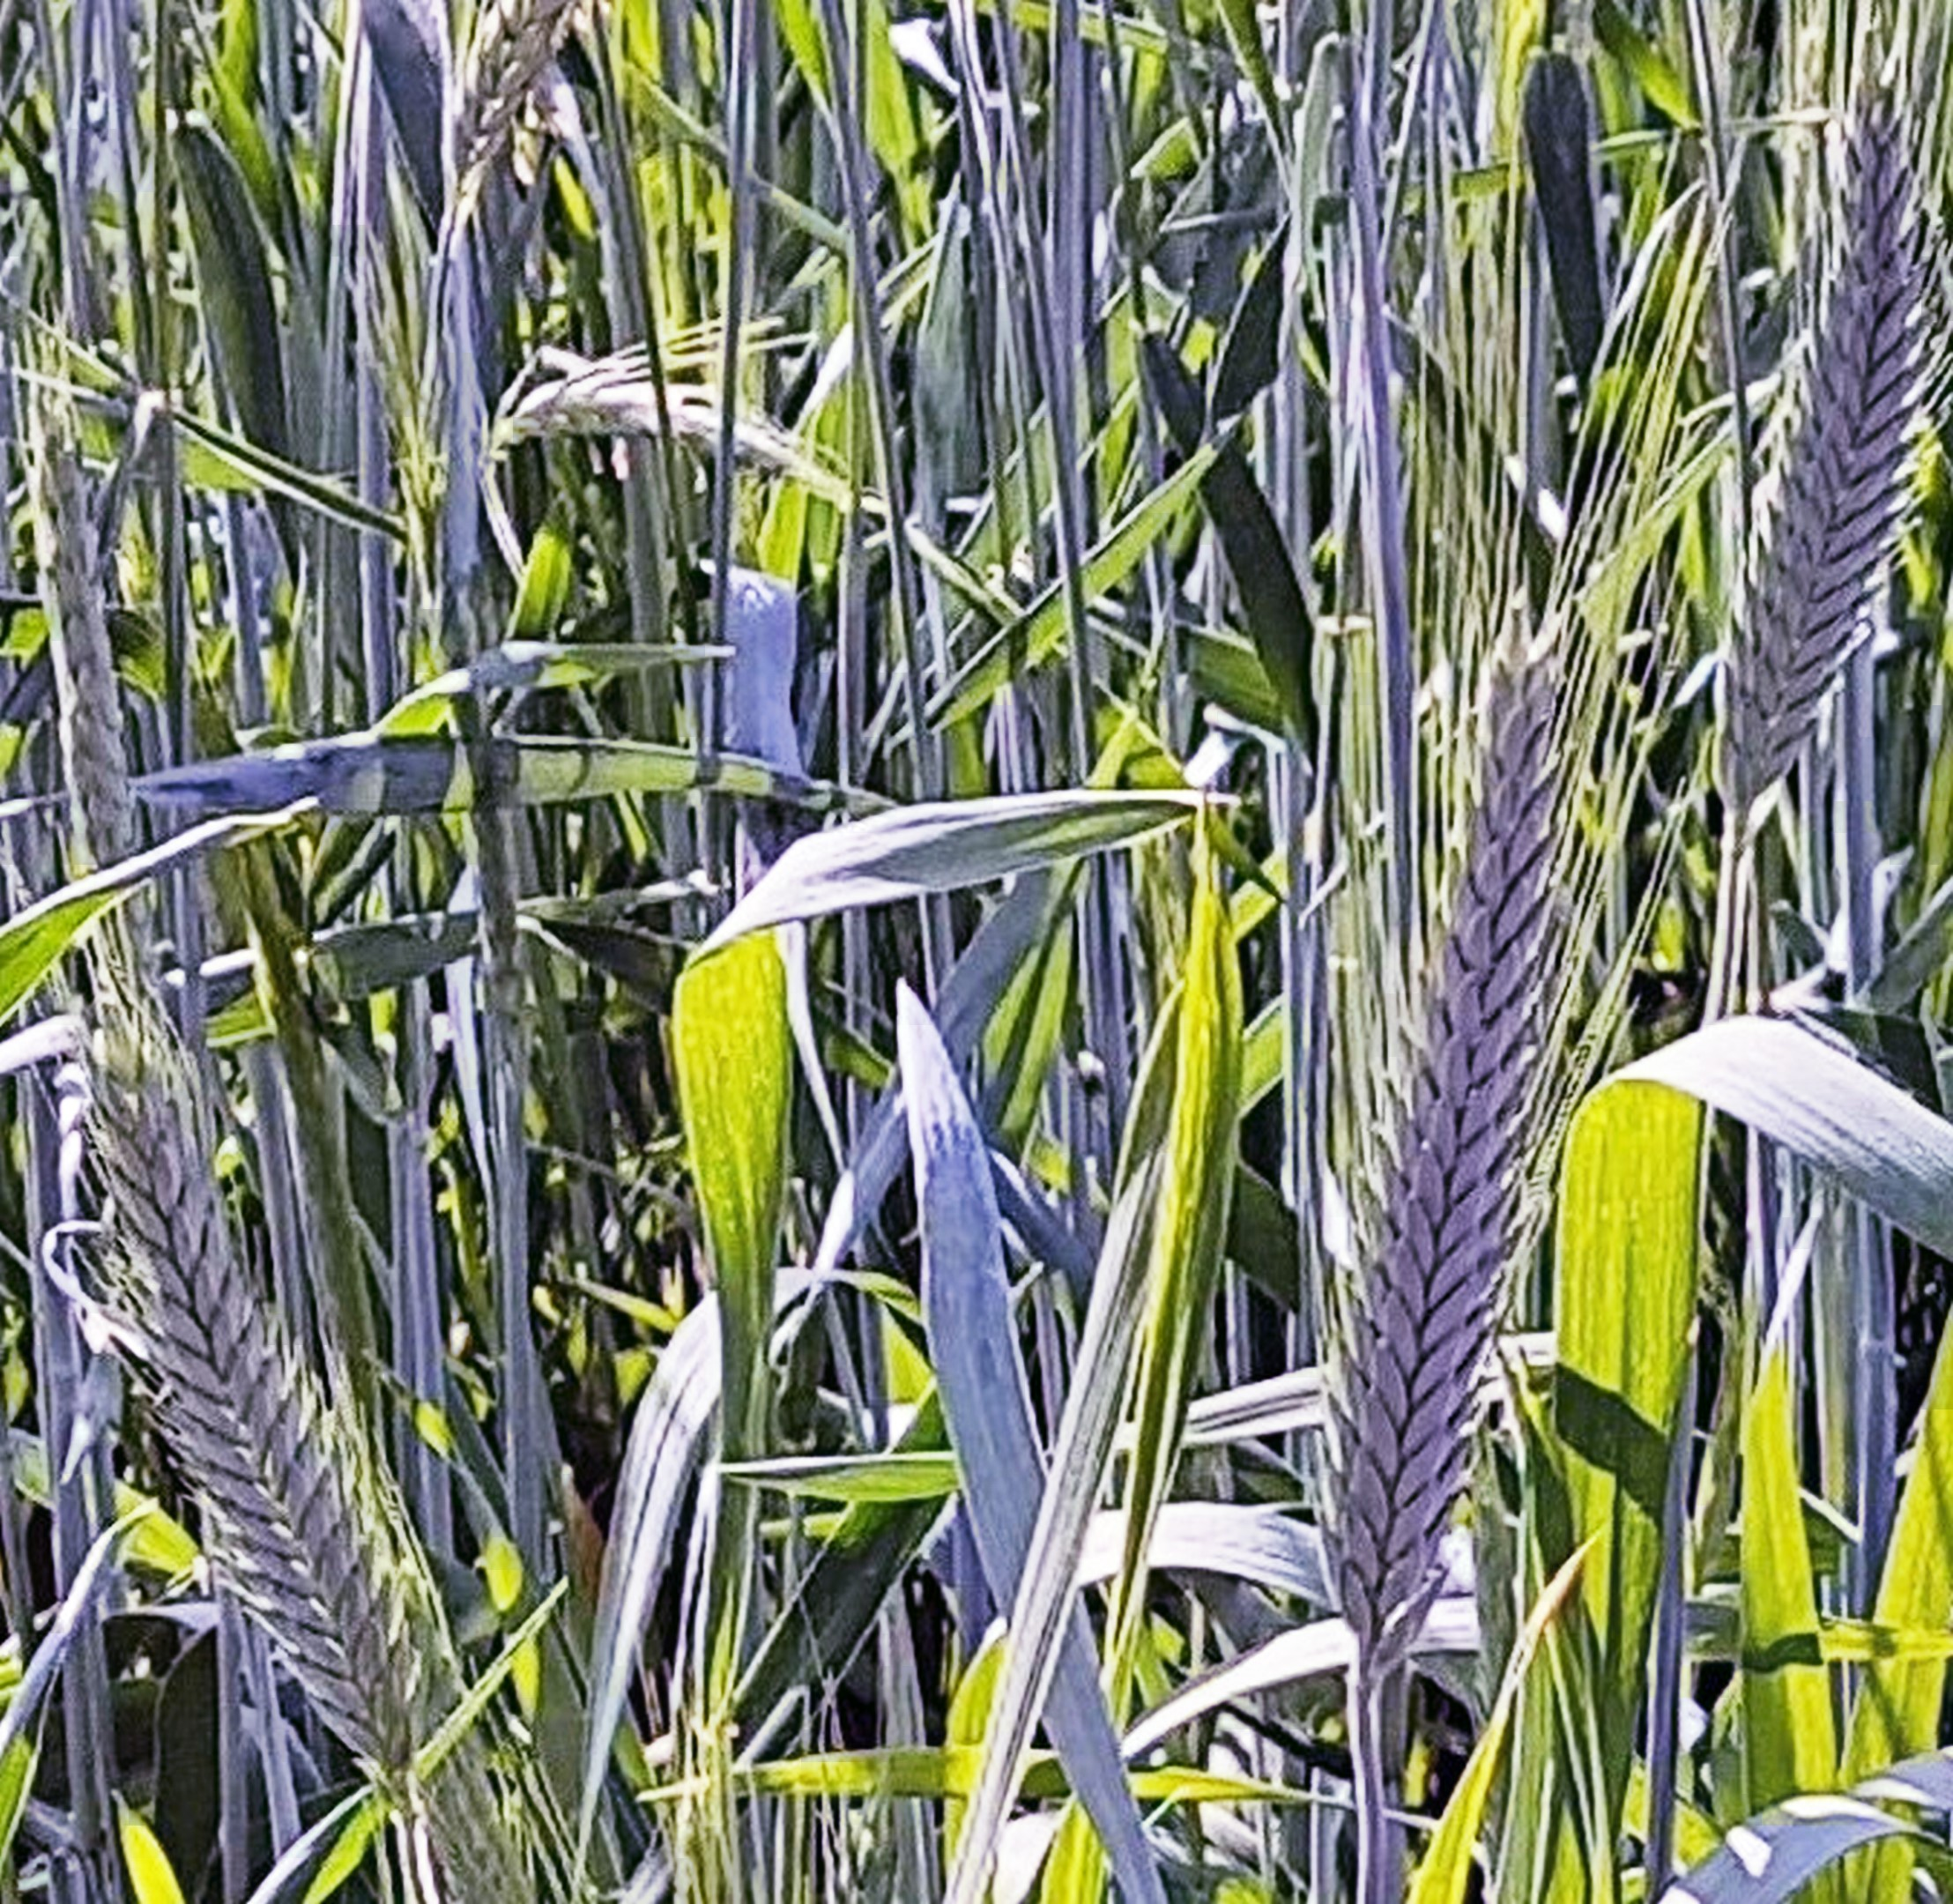Healthy Wheat: (1296, 643, 1616, 1648), (82, 1041, 467, 1765), (1698, 91, 1953, 797)
